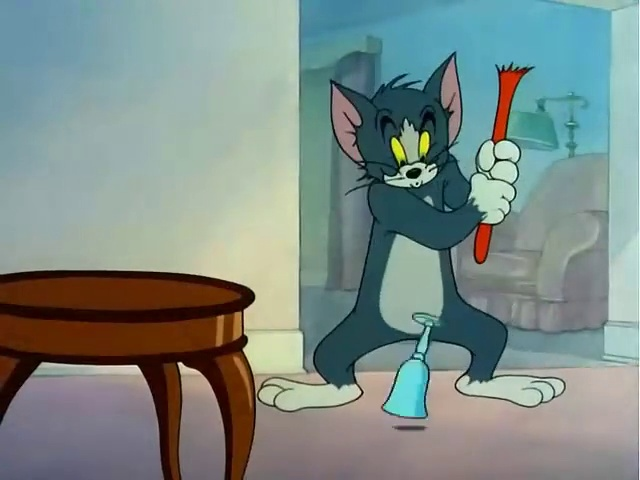tom: (239, 16, 596, 421)
